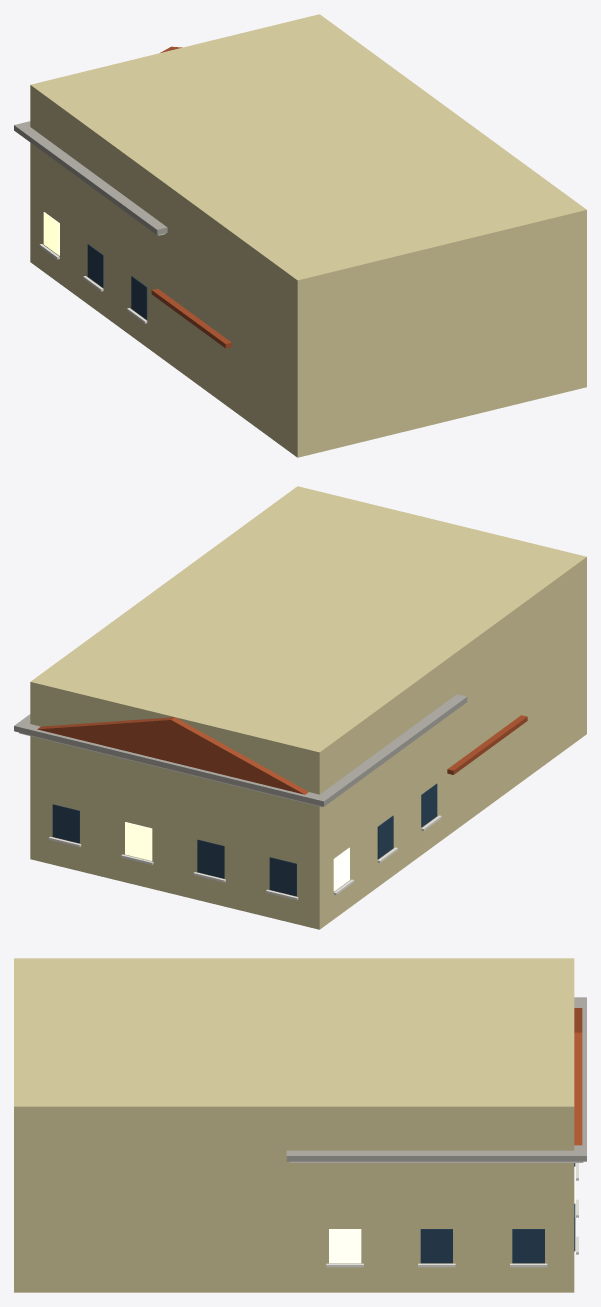
File: BLD_House_C.fbx
3 renders of one model, top to bottom at view 1: azimuth 30°, elevation 25°; view 2: azimuth 150°, elevation 25°; view 3: azimuth 270°, elevation 25°, orthographic. The views are drawn at different scales.
Parts seen in each view (by area): view 1: BLD_House_C__COL_Main, BLD_House_C__BODY; view 2: BLD_House_C__COL_Main, BLD_House_C__BODY; view 3: BLD_House_C__COL_Main, BLD_House_C__BODY.
Boxes of the visible parts, x1,y1,x2,y2 form: BLD_House_C__COL_Main: (30,14,586,457); BLD_House_C__BODY: (14,46,231,404); BLD_House_C__COL_Main: (30,486,586,928); BLD_House_C__BODY: (14,694,527,929); BLD_House_C__COL_Main: (14,958,574,1292); BLD_House_C__BODY: (286,997,586,1292).
Bounding box in the file's own units: 15 × 8.2 × 22.9.
